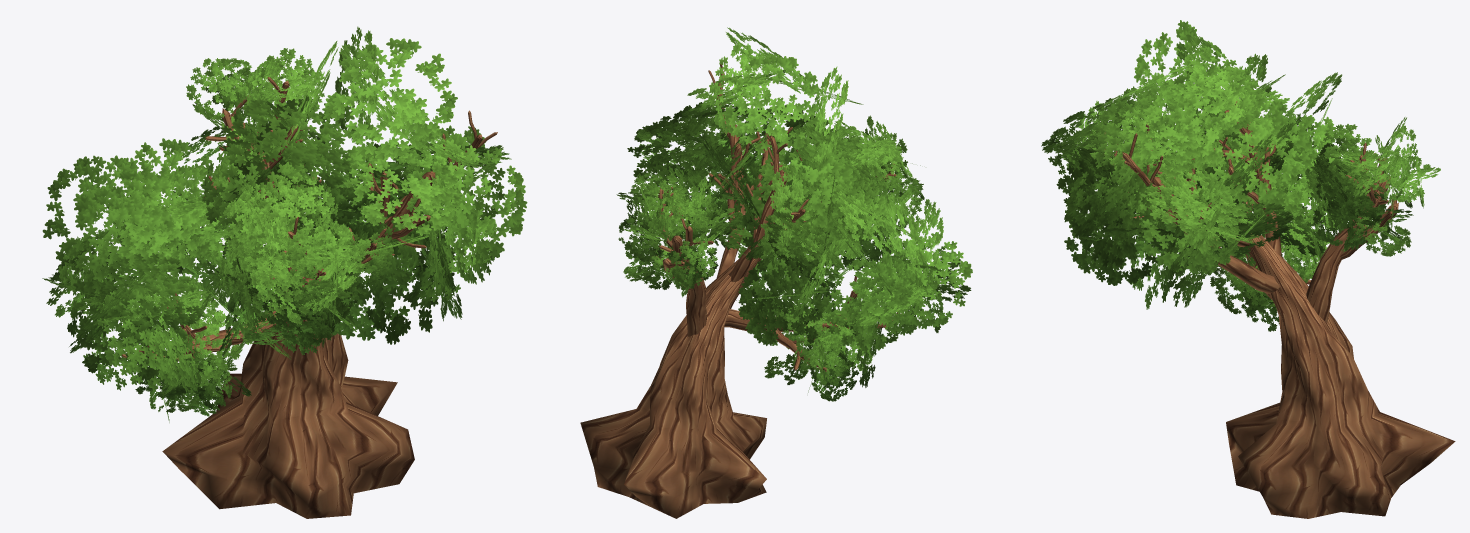
Rendered from ct_maple_0.gltf.
The picture shows the model from 3 angles, left to right: view 1: azimuth 30°, elevation 25°; view 2: azimuth 150°, elevation 25°; view 3: azimuth 270°, elevation 25°; orthographic projection. The views are drawn at different scales.
Parts seen in each view (by area): view 1: ct_maple_0_leaves_LOD0, ct_maple_0_trunk_LOD0; view 2: ct_maple_0_leaves_LOD0, ct_maple_0_trunk_LOD0; view 3: ct_maple_0_leaves_LOD0, ct_maple_0_trunk_LOD0.
Part boxes in pixels (x1,y1,x2,y2): ct_maple_0_leaves_LOD0: (42,26,527,422); ct_maple_0_trunk_LOD0: (122,77,497,518); ct_maple_0_leaves_LOD0: (616,27,972,401); ct_maple_0_trunk_LOD0: (580,64,901,518); ct_maple_0_leaves_LOD0: (1041,20,1440,331); ct_maple_0_trunk_LOD0: (1103,101,1455,518).
Size of what is drawn, in the model's own units: 9.04 by 9.74 by 8.47.
2 materials, 2 textured.
